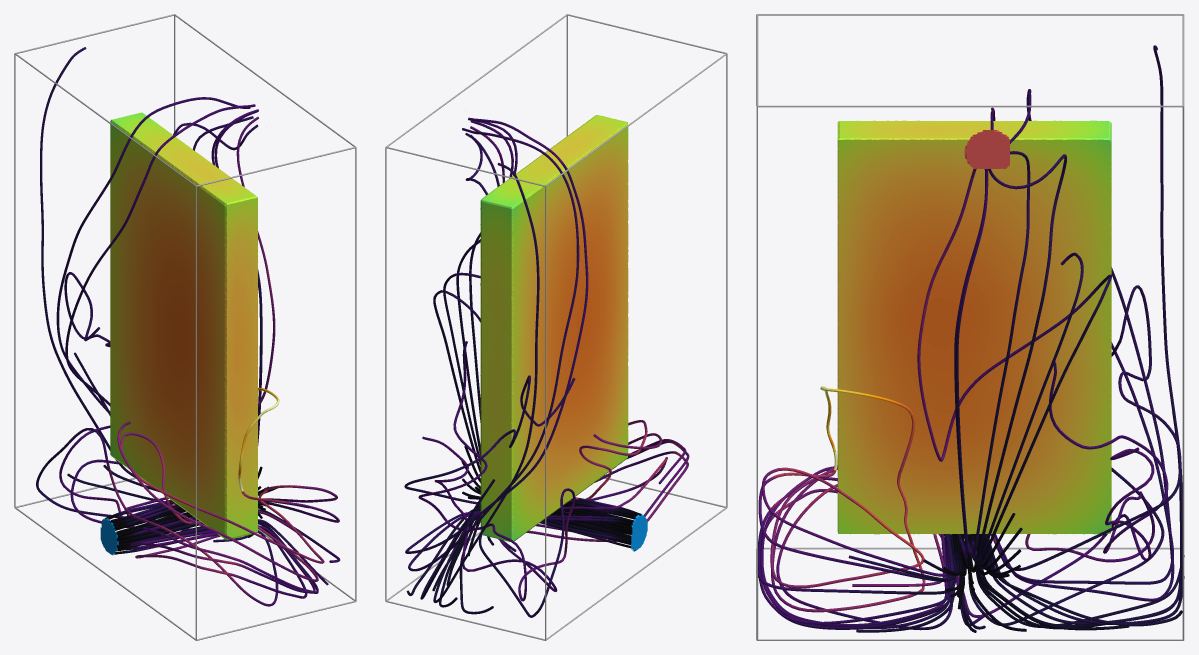
File: mm-server.glb
3 renders of one model, left to right at view 1: azimuth 30°, elevation 25°; view 2: azimuth 150°, elevation 25°; view 3: azimuth 270°, elevation 25°, orthographic. The views are drawn at different scales.
Visible parts, largest first — view 1: Renderer Node; view 2: Renderer Node; view 3: Renderer Node.
Boxes of the visible parts, x1,y1,x2,y2 form: Renderer Node: [14, 14, 356, 640]; Renderer Node: [385, 14, 727, 640]; Renderer Node: [756, 14, 1184, 640].
Size of the model in its own units: 0.2153 by 0.5829 by 0.4225.
Materials: 5 (2 with a texture image).
